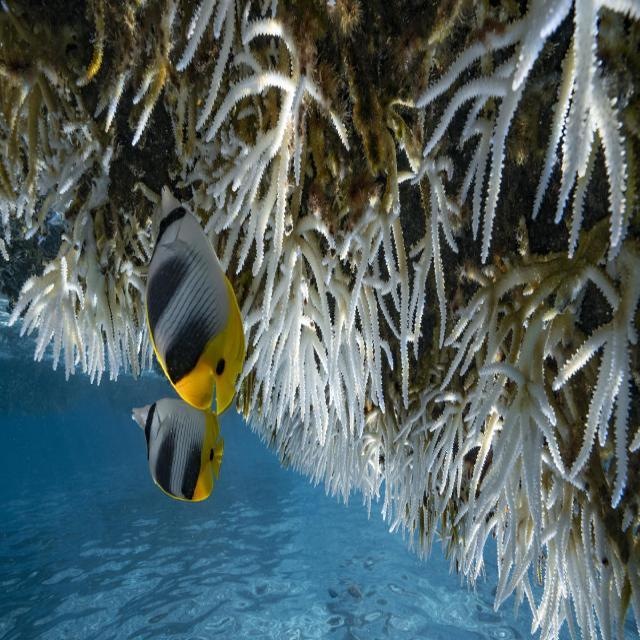ButterflyFish: (138, 178, 262, 402), (99, 388, 248, 532)
